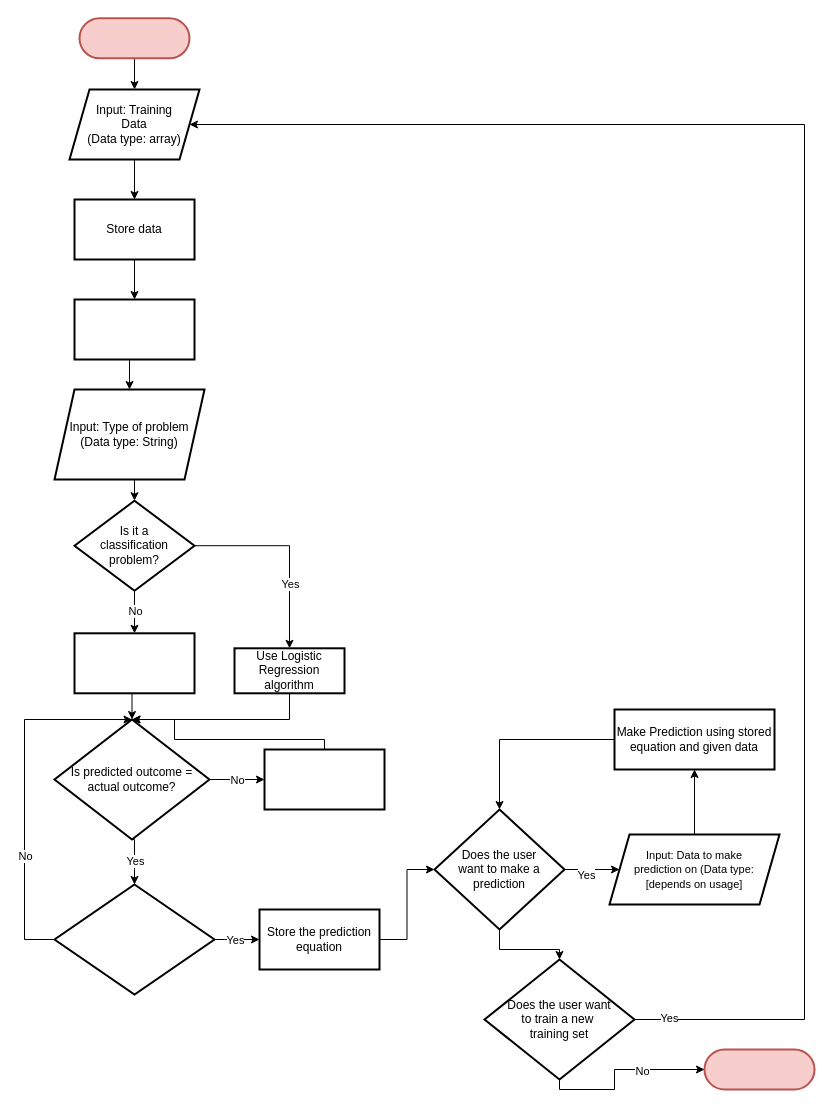
The diagram is 833 pixels wide and 1115 high, and some of its shapes have lost their labels. The shapes that lost their labels are listed below. From the top down, each one's centre as x and y in pixels, then its label:
At [134,38]: "Start".
At [134,329]: "Determine number of features that affect result of the data".
At [134,663]: "Use linear regression".
At [324,779]: "adjust feature values in equation".
At [134,939]: "Was all the training data used?".
At [759,1069]: "End".
